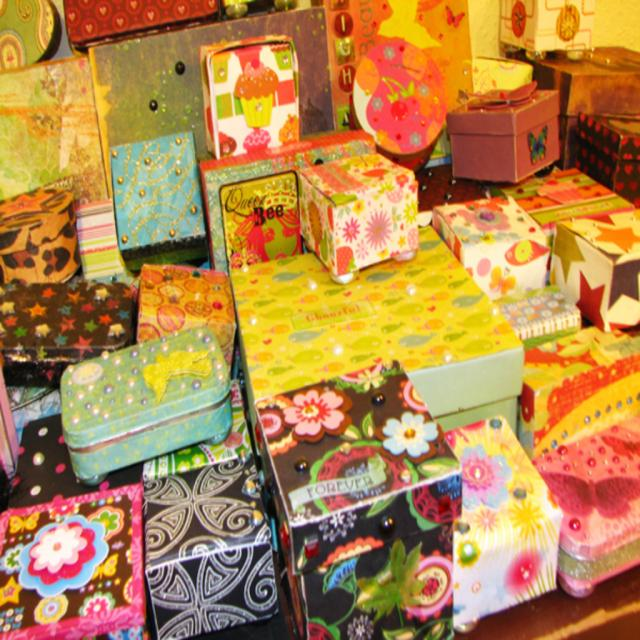Box: (0, 0, 639, 639), (450, 71, 560, 179)
